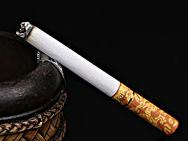smoke: (15, 21, 179, 136)
